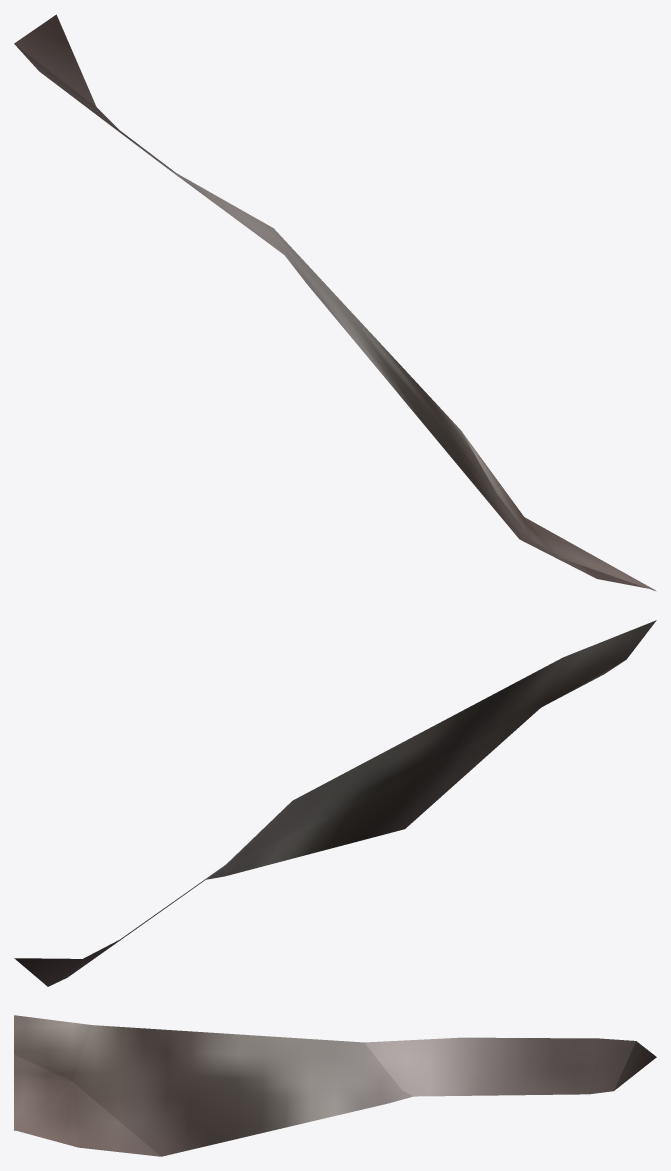
3 renders of one model, top to bottom at view 1: azimuth 30°, elevation 25°; view 2: azimuth 150°, elevation 25°; view 3: azimuth 270°, elevation 25°, orthographic. The views are drawn at different scales.
Bounding box in the file's own units: 0.0133 × 0.0147 × 0.0859.
Materials: 1 (1 with a texture image).
